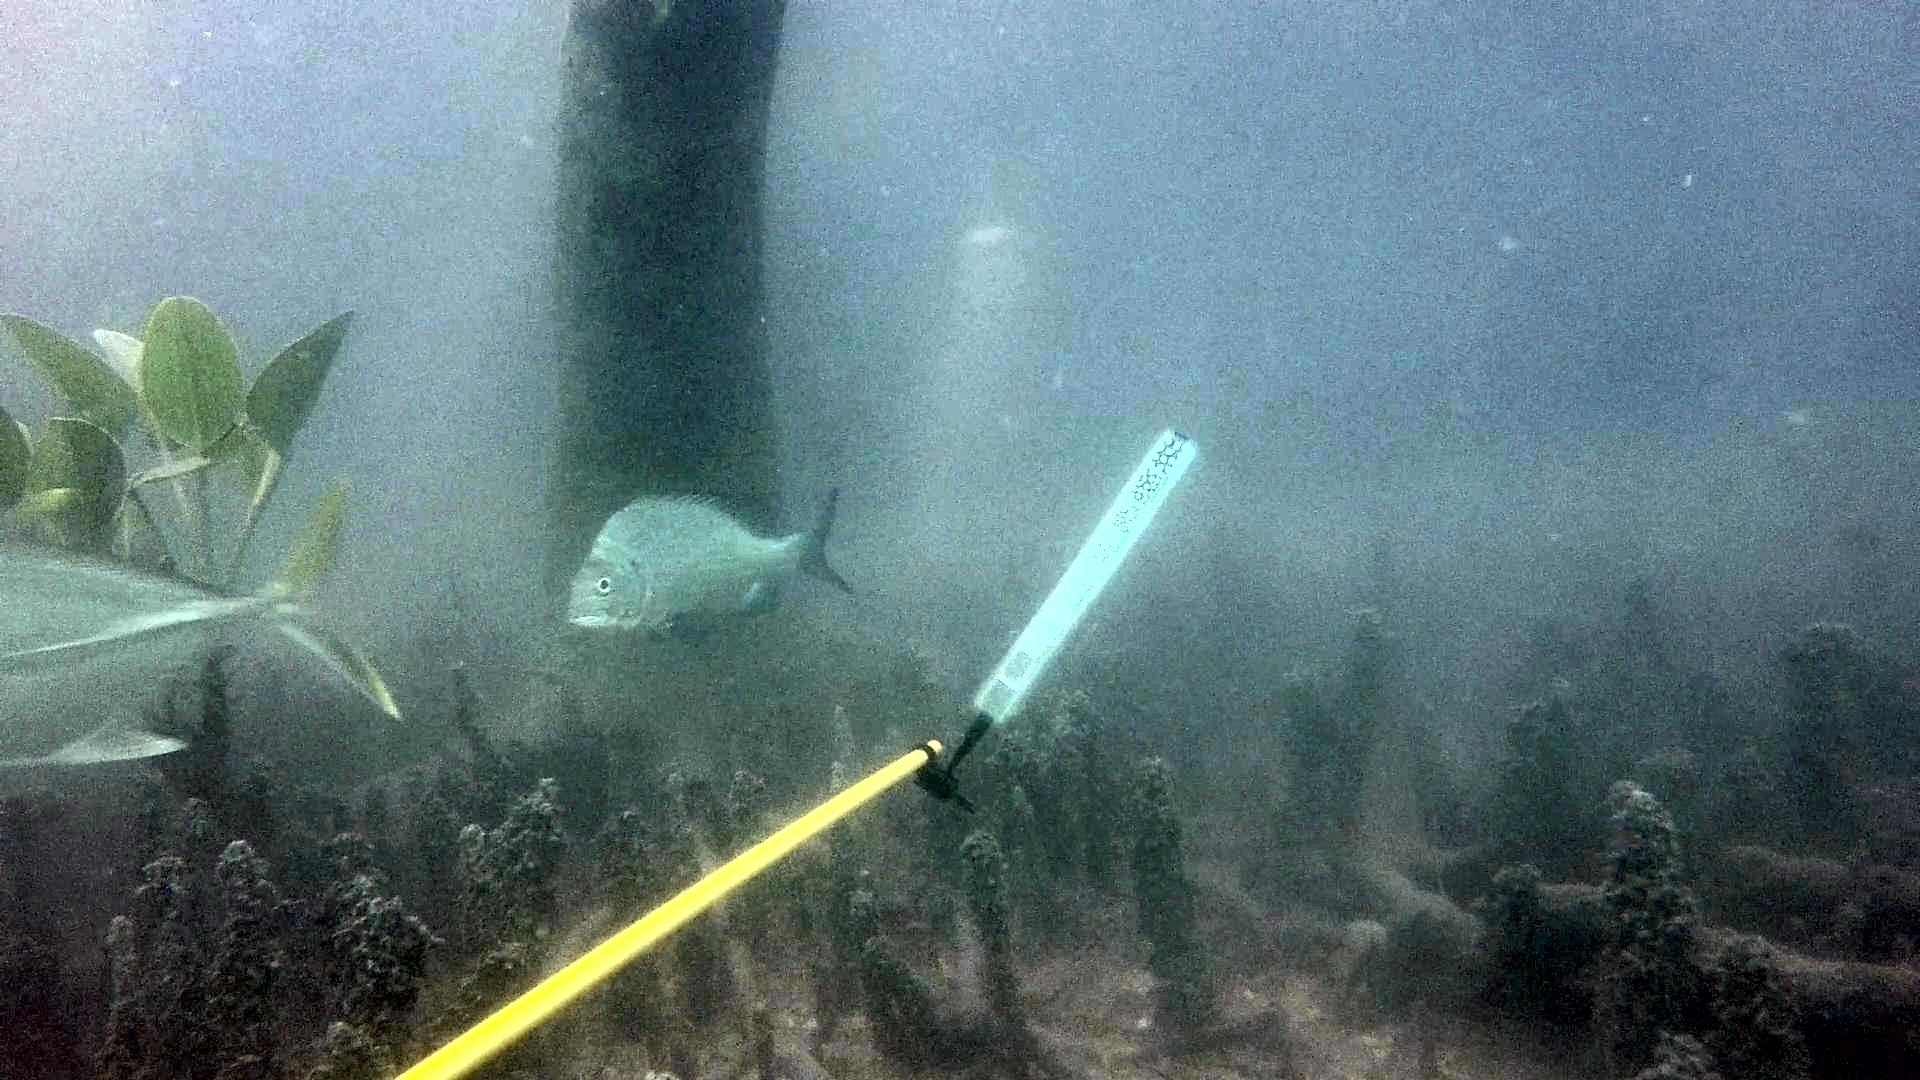acanthopagrus palmaris: (560, 473, 862, 653)
caranx: (0, 483, 421, 786)
